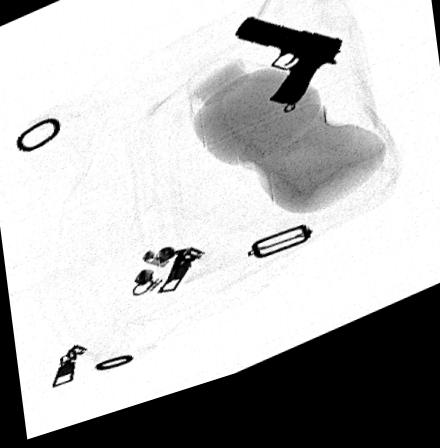Gun: (232, 30, 343, 124)
